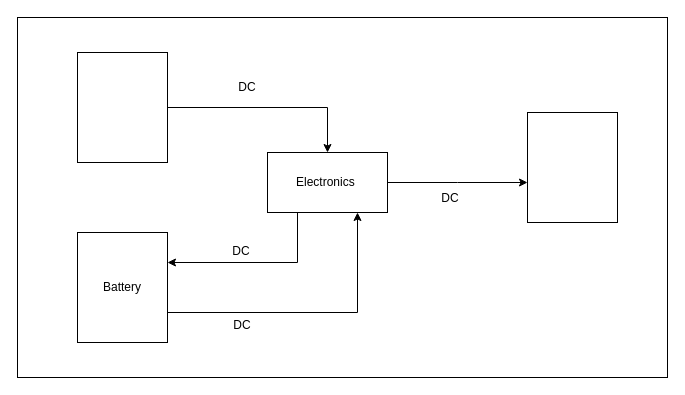
The diagram is 685 pixels wide and 395 high, and some of its shapes have lost their labels. Here are the shapes that lost their labels. From the top down, the centre of each, then its label:
At point (122, 107): "Solar Panel".
At point (572, 167): "DC Appliances Eg: Fan, LED light".
